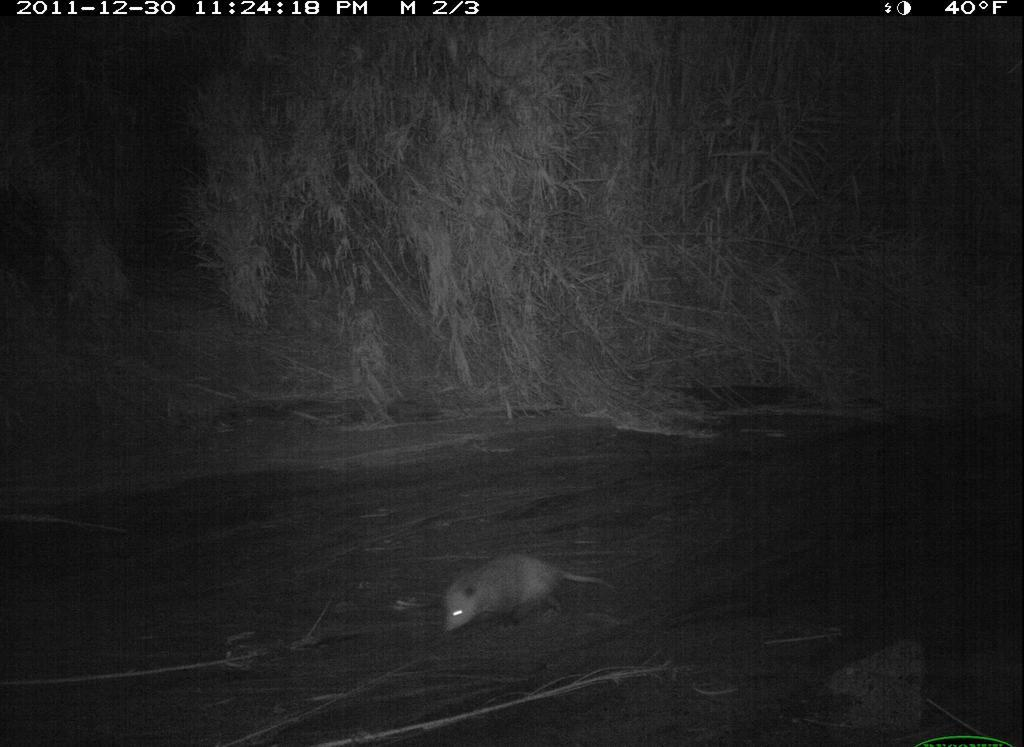opossum: (428, 542, 634, 643)
